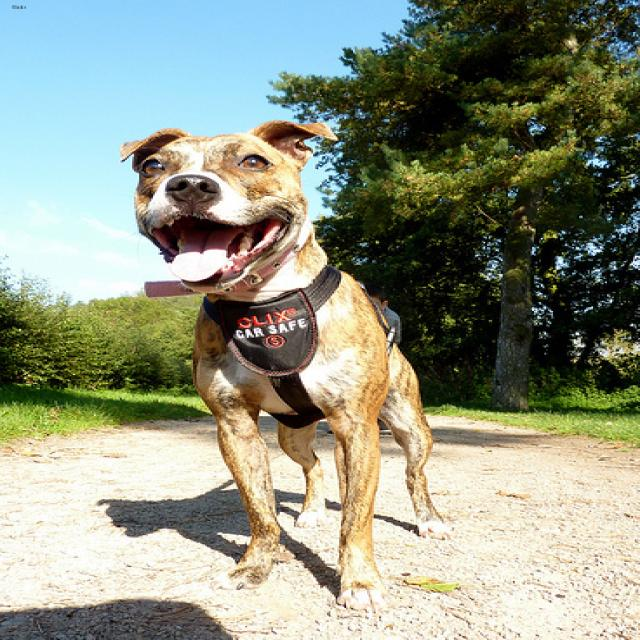dog-staffordshire_bull_terrier: (108, 114, 457, 618)
